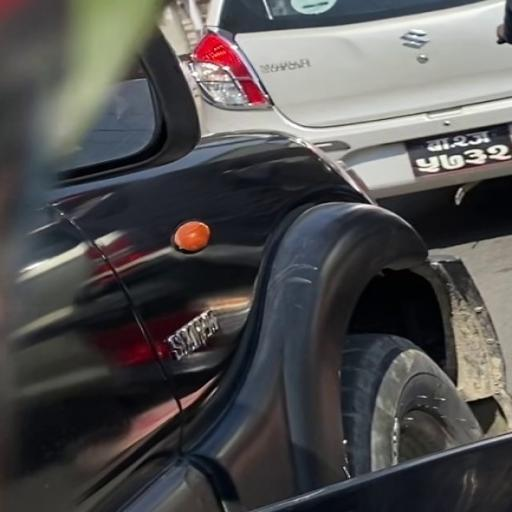license_plate: (402, 119, 511, 184)
